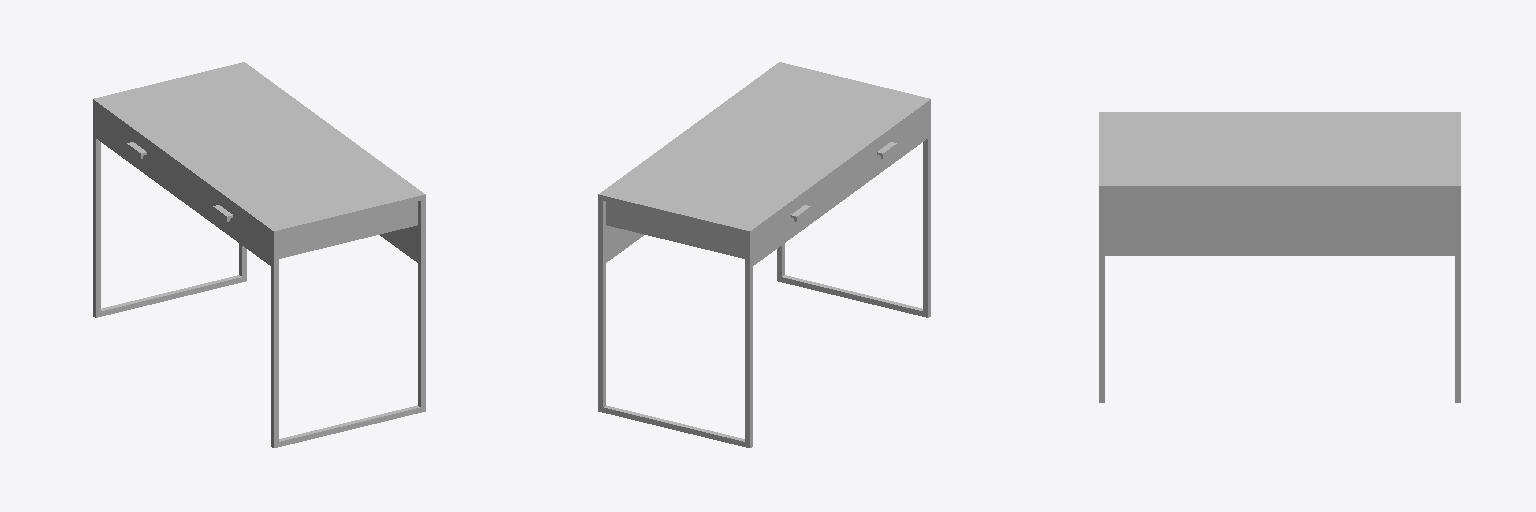
Rendered from Desk.obj.
3 renders of one model, left to right at view 1: azimuth 30°, elevation 25°; view 2: azimuth 150°, elevation 25°; view 3: azimuth 270°, elevation 25°, orthographic.
Visible parts, largest first — view 1: Desk.001_Cubo.001, Drawer_1_Cubo.009, Drawer_1.001_Cubo.003; view 2: Desk.001_Cubo.001, Drawer_1.001_Cubo.003, Drawer_1_Cubo.009; view 3: Desk.001_Cubo.001.
Boxes of the visible parts, <box> form: Desk.001_Cubo.001: <box>93,62,425,447</box>; Drawer_1_Cubo.009: <box>99,109,181,189</box>; Drawer_1.001_Cubo.003: <box>185,172,267,252</box>; Desk.001_Cubo.001: <box>598,62,930,447</box>; Drawer_1.001_Cubo.003: <box>842,109,924,189</box>; Drawer_1_Cubo.009: <box>756,172,838,252</box>; Desk.001_Cubo.001: <box>1099,112,1460,402</box>.
Size of the model in its own units: 0.625 by 0.82 by 1.24.